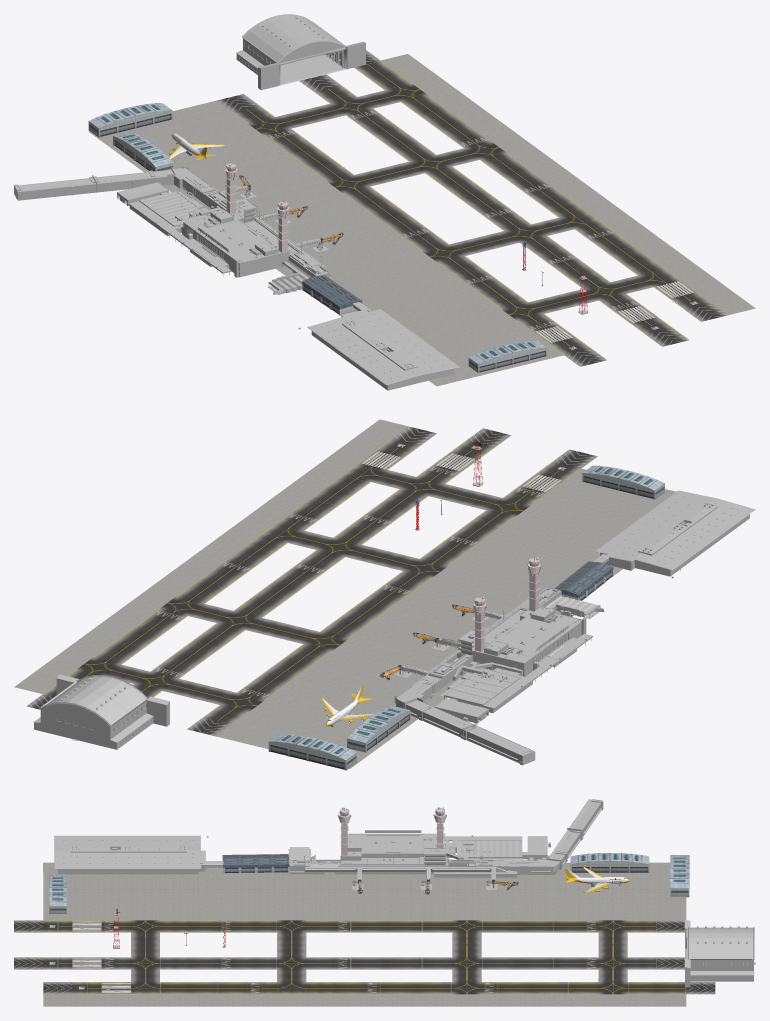
Rendered from Airport ENV.fbx.
The picture shows the model from 3 angles, top to bottom: view 1: azimuth 30°, elevation 25°; view 2: azimuth 150°, elevation 25°; view 3: azimuth 270°, elevation 25°; orthographic projection. The views are drawn at different scales.
Visible parts, largest first — view 1: Runway, EDDB_Terminal___LOD0_Terminal_0, Opacity___002_UEEE_Hangar1_opasity_2_0, HANGAR_01_1_HANGAR_01_1_0.001, HANGAR_01_1_HANGAR_01_1_0, HANGAR_01_1_HANGAR_01_1_0.002, HANGAR_02_HANGAR_02_1_0.001; view 2: Runway, EDDB_Terminal___LOD0_Terminal_0, Opacity___002_UEEE_Hangar1_opasity_2_0, HANGAR_01_1_HANGAR_01_1_0.001, HANGAR_01_1_HANGAR_01_1_0, HANGAR_01_1_HANGAR_01_1_0.002, HANGAR_02_HANGAR_02_1_0, HANGAR_02_HANGAR_02_1_0.001, Tower.001, Tower.002; view 3: Runway, EDDB_Terminal___LOD0_Terminal_0, Opacity___002_UEEE_Hangar1_opasity_2_0, HANGAR_01_1_HANGAR_01_1_0.002, HANGAR_01_1_HANGAR_01_1_0.001, HANGAR_01_1_HANGAR_01_1_0, HANGAR_02_HANGAR_02_1_0, HANGAR_02_HANGAR_02_1_0.001, Body1, Tower.001, Tower.002.
Part boxes in pixels (<box>): Runway: <box>89,50,755,386</box>; EDDB_Terminal___LOD0_Terminal_0: <box>14,167,459,390</box>; Opacity___002_UEEE_Hangar1_opasity_2_0: <box>236,14,365,90</box>; HANGAR_01_1_HANGAR_01_1_0.001: <box>88,103,172,137</box>; HANGAR_01_1_HANGAR_01_1_0: <box>468,340,547,372</box>; HANGAR_01_1_HANGAR_01_1_0.002: <box>113,132,173,171</box>; HANGAR_02_HANGAR_02_1_0.001: <box>321,288,362,315</box>; Runway: <box>14,419,675,768</box>; EDDB_Terminal___LOD0_Terminal_0: <box>380,490,755,765</box>; Opacity___002_UEEE_Hangar1_opasity_2_0: <box>33,674,169,749</box>; HANGAR_01_1_HANGAR_01_1_0.001: <box>268,733,356,770</box>; HANGAR_01_1_HANGAR_01_1_0: <box>582,465,664,499</box>; HANGAR_01_1_HANGAR_01_1_0.002: <box>347,705,410,752</box>; HANGAR_02_HANGAR_02_1_0: <box>554,575,595,600</box>; HANGAR_02_HANGAR_02_1_0.001: <box>571,561,613,589</box>; Tower.001: <box>527,554,541,611</box>; Tower.002: <box>472,596,486,651</box>; Runway: <box>14,862,715,1006</box>; EDDB_Terminal___LOD0_Terminal_0: <box>54,799,603,893</box>; Opacity___002_UEEE_Hangar1_opasity_2_0: <box>684,920,755,987</box>; HANGAR_01_1_HANGAR_01_1_0.002: <box>570,853,649,872</box>; HANGAR_01_1_HANGAR_01_1_0.001: <box>670,855,689,897</box>; HANGAR_01_1_HANGAR_01_1_0: <box>49,875,66,913</box>; HANGAR_02_HANGAR_02_1_0: <box>255,854,289,872</box>; HANGAR_02_HANGAR_02_1_0.001: <box>222,854,256,873</box>; Body1: <box>564,869,629,884</box>; Tower.001: <box>337,807,351,855</box>; Tower.002: <box>433,807,446,848</box>.
Size of what is drawn, in the model's own units: 5401 by 798 by 8476.
